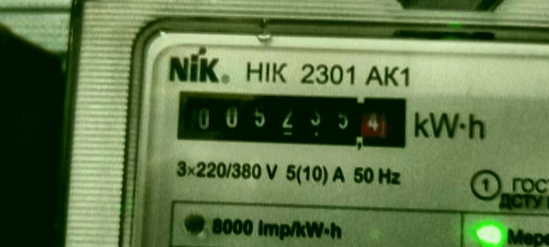0: (194, 104, 211, 129), (222, 103, 239, 128)
2: (277, 102, 295, 129)
3: (305, 101, 323, 127)
4: (362, 104, 382, 134)
5: (332, 101, 350, 130), (250, 102, 266, 127)
screen: (162, 74, 416, 160)
